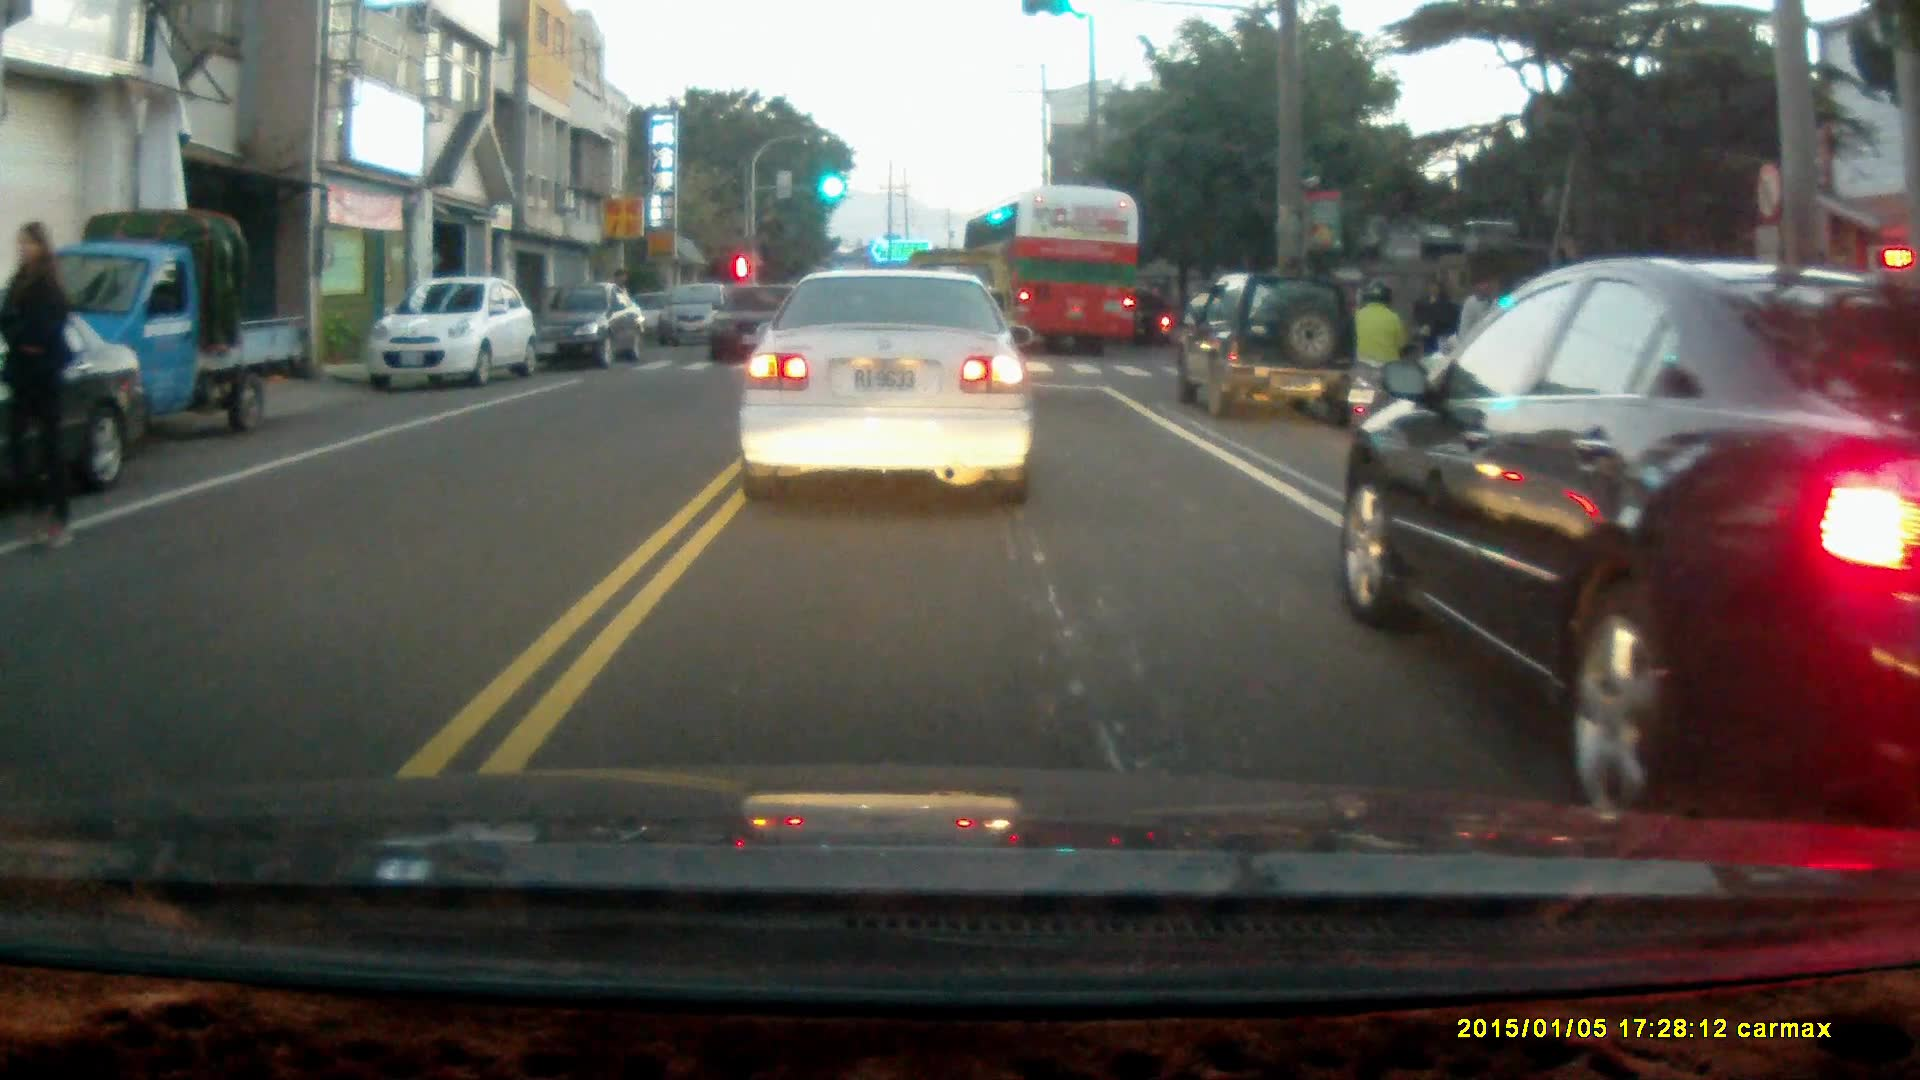pedestrian: (1, 220, 78, 550), (1456, 274, 1505, 386), (1409, 274, 1453, 391)
rider: (1342, 283, 1410, 440), (1116, 292, 1175, 348)
vehicle: (1344, 257, 1920, 832), (731, 267, 1035, 510), (17, 209, 292, 442), (1, 285, 155, 515), (963, 188, 1143, 356), (1175, 275, 1366, 428), (367, 281, 529, 393), (535, 282, 652, 372), (652, 286, 738, 356)
